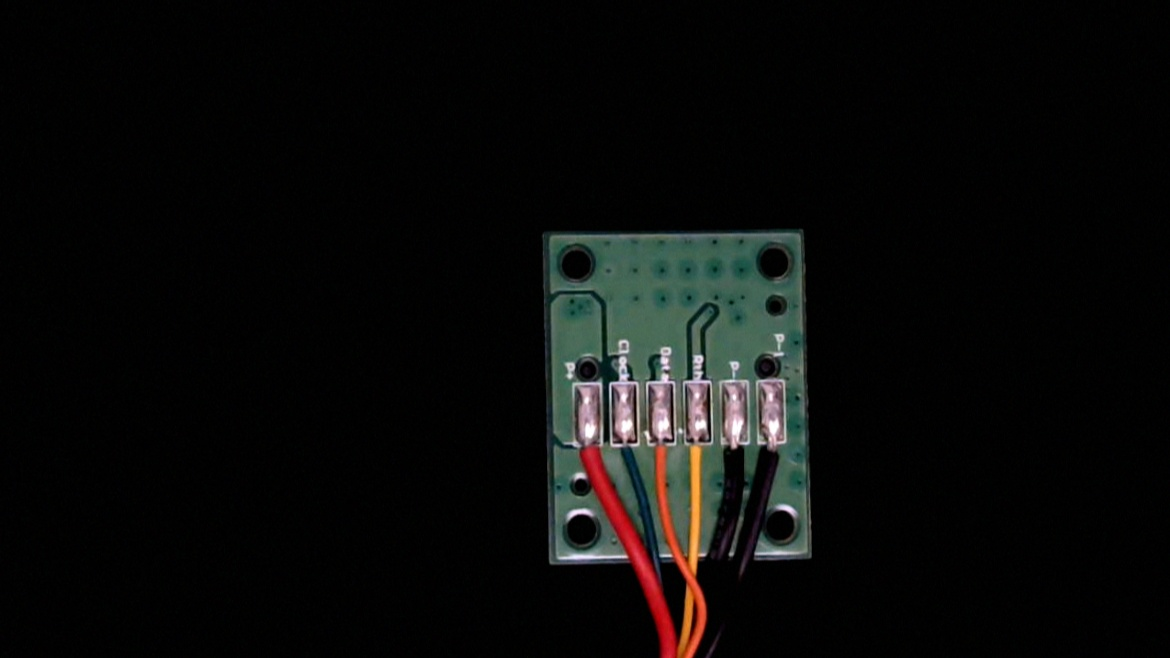Black: (717, 423, 750, 497)
Black1: (759, 424, 791, 491)
Green: (608, 430, 642, 480)
Orange: (644, 427, 675, 500)
Red: (571, 424, 604, 495)
Yellow: (680, 426, 713, 501)
